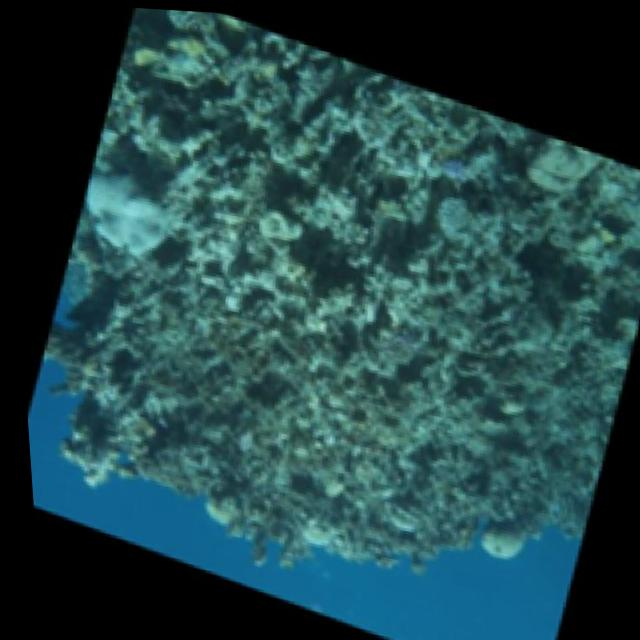Dead Coral: (238, 69, 544, 473), (15, 282, 239, 520), (68, 103, 271, 309)
